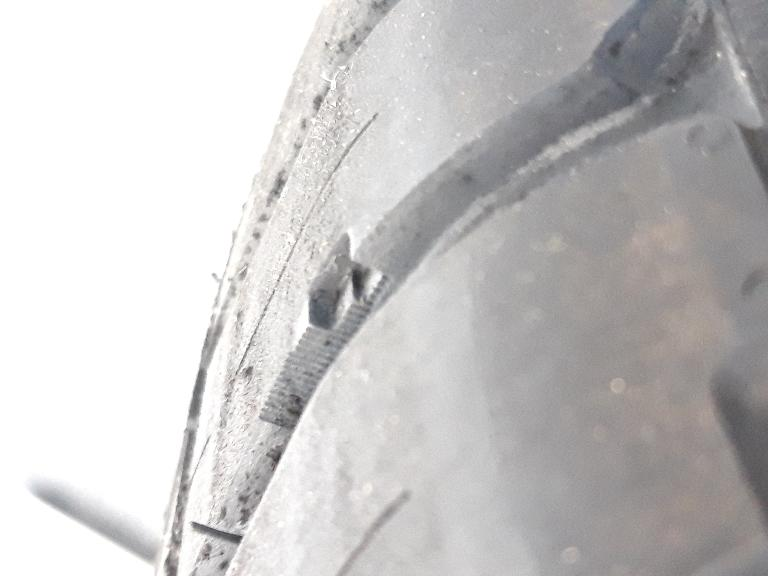temoin:50: (282, 224, 402, 368)
